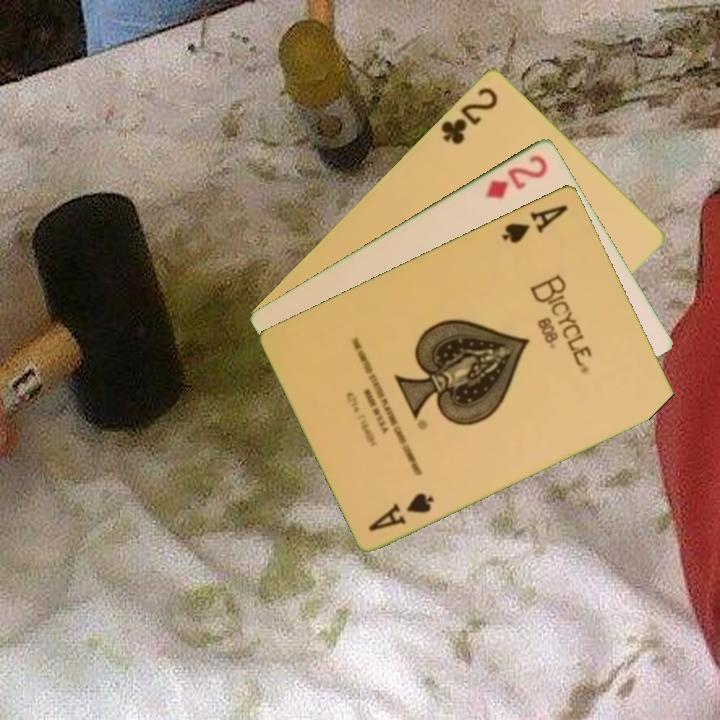2c: (437, 83, 501, 147)
2d: (482, 150, 551, 201)
As: (364, 488, 438, 534), (498, 200, 571, 246)
